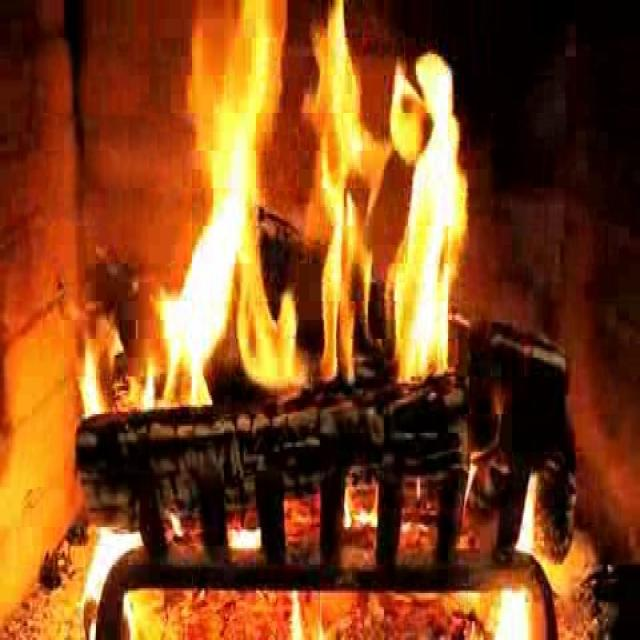fire: (156, 7, 474, 398)
